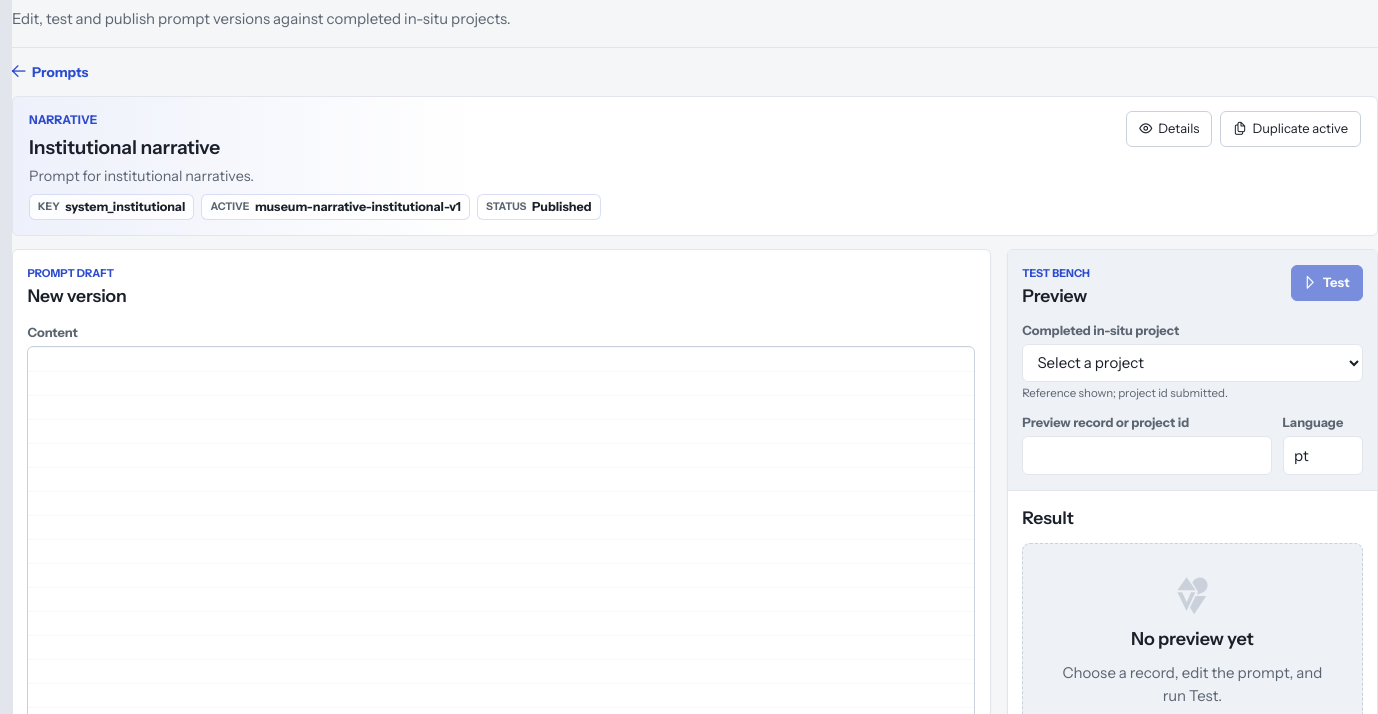
Test case: AiPromptsPageComponent › previews a draft narrative prompt with an existing record id
This screenshot has width=1378, height=714.
Type "record-1" into the field labelled "Preview record or project id" at coordinates (1147, 456), box x1=1022 y1=436 x2=1272 y2=475
(page scrolled)
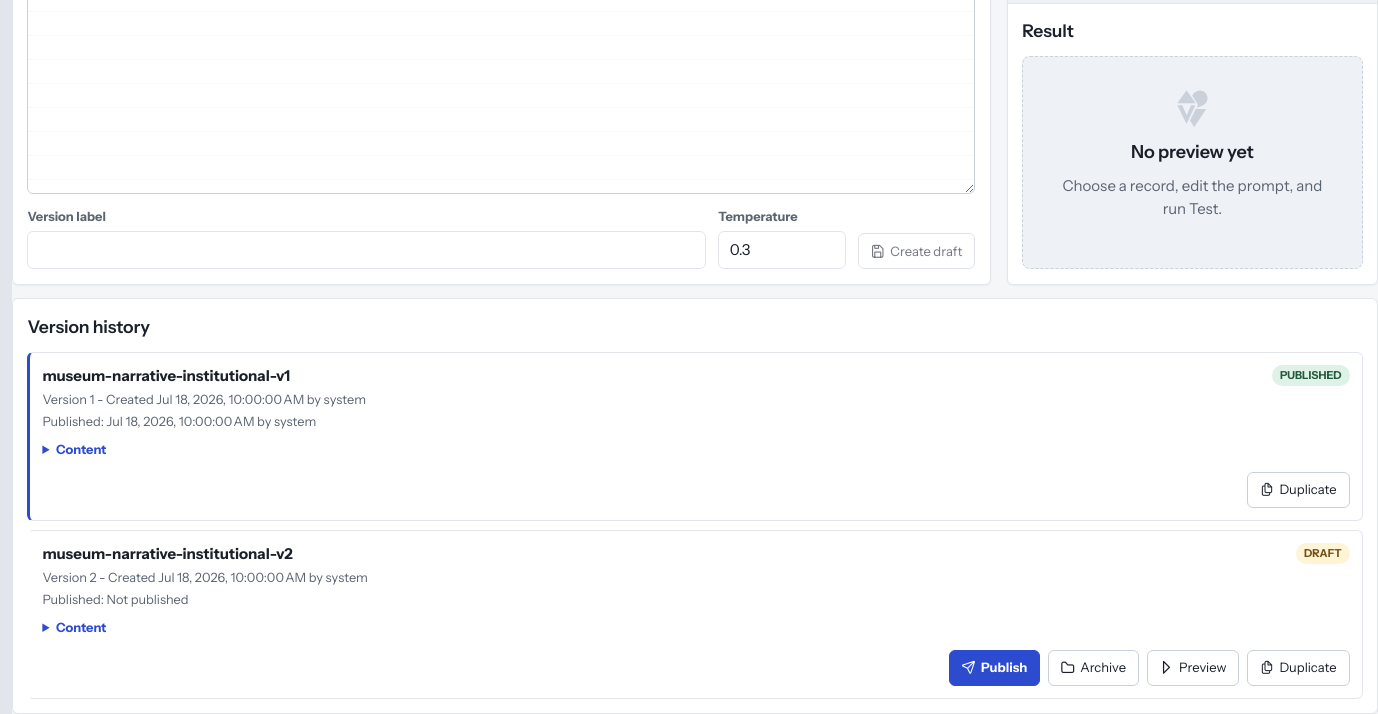
Click the button "Preview" at coordinates (1193, 668), box x1=1147 y1=650 x2=1239 y2=686
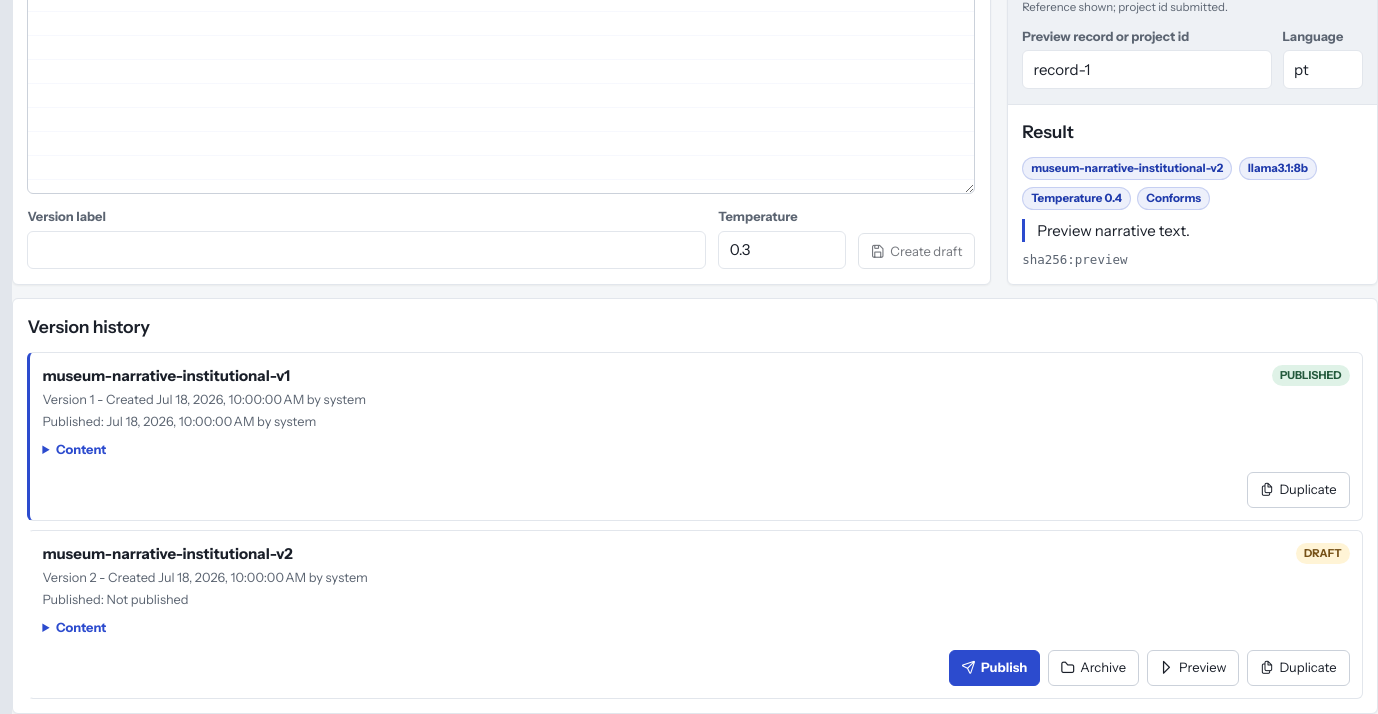
Now the text "Preview narrative text." is shown, box x1=1022 y1=219 x2=1363 y2=242
Now the text "llama3.1:8b" is shown, box x1=1239 y1=157 x2=1317 y2=180
Now the text "Temperature 0.4" is shown, box x1=1022 y1=187 x2=1131 y2=210
